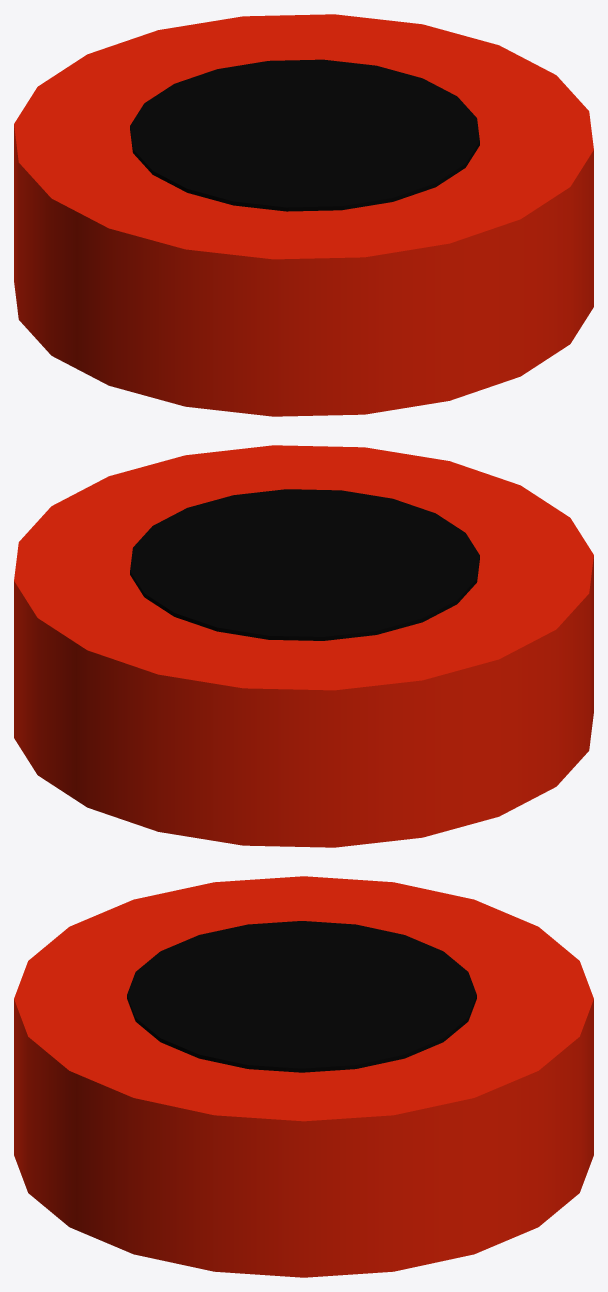
File: Red Coin P.fbx
3 renders of one model, top to bottom at view 1: azimuth 30°, elevation 25°; view 2: azimuth 150°, elevation 25°; view 3: azimuth 270°, elevation 25°, orthographic.
Visible parts, largest first — view 1: pCylinder1, pCylinder2; view 2: pCylinder1, pCylinder2; view 3: pCylinder1, pCylinder2.
Boxes of the visible parts, left/top/right/bottom form: pCylinder1: left=14, top=14, right=593, bottom=416; pCylinder2: left=130, top=59, right=479, bottom=211; pCylinder1: left=14, top=445, right=593, bottom=847; pCylinder2: left=130, top=489, right=479, bottom=640; pCylinder1: left=14, top=876, right=593, bottom=1277; pCylinder2: left=127, top=921, right=476, bottom=1072.
Size of the model in its own units: 2 by 0.6103 by 2.
